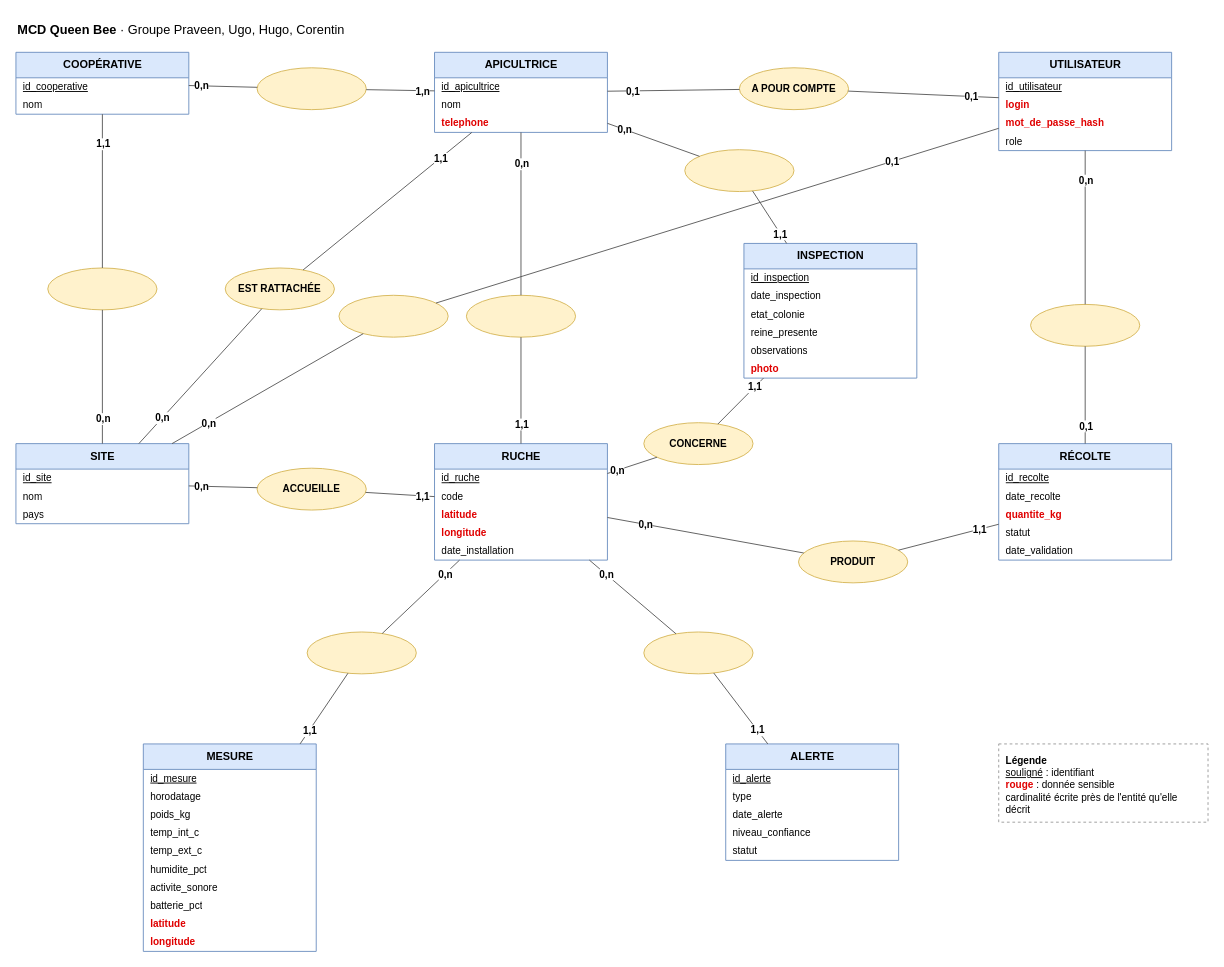
This 1224x967 diagram has some shape labels left out. Each missing label, with the centre of its shape:
"ADHÈRE date_adhesion" goes at pixel 311 88.
"DÉCLENCHE" goes at pixel 698 652.
"EST AFFECTÉ" goes at pixel 393 315.
"EST IMPLANTÉE" goes at pixel 102 288.
"POSSÈDE" goes at pixel 520 315.
"RÉALISE" goes at pixel 739 170.
"VALIDE" goes at pixel 1085 324.
"ÉMET" goes at pixel 361 652.
